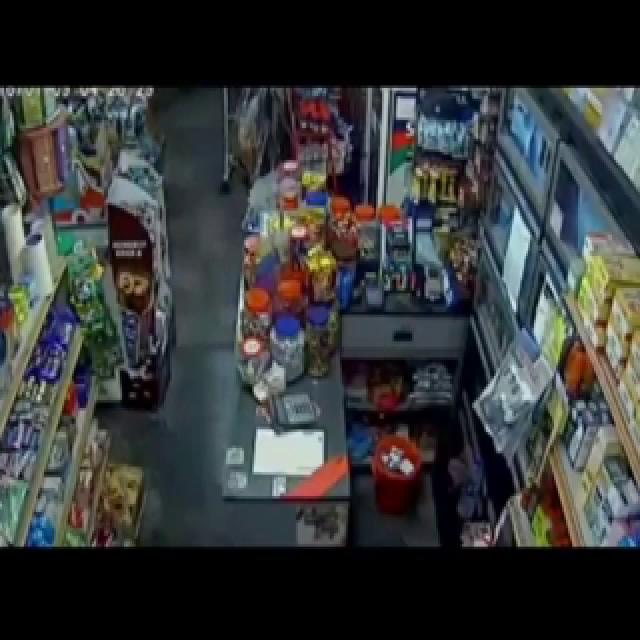robbery: (111, 90, 505, 503)
